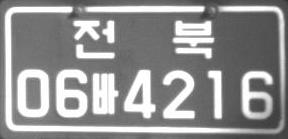0: (16, 67, 50, 118)
1: (201, 69, 230, 119)
2: (161, 68, 195, 119)
4: (123, 69, 156, 119)
6: (54, 67, 89, 119), (240, 69, 274, 120)
바: (91, 72, 119, 115)
전북_D: (72, 20, 214, 58)
